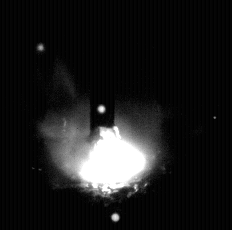arame: (91, 0, 115, 141)
poca: (45, 0, 166, 230)
